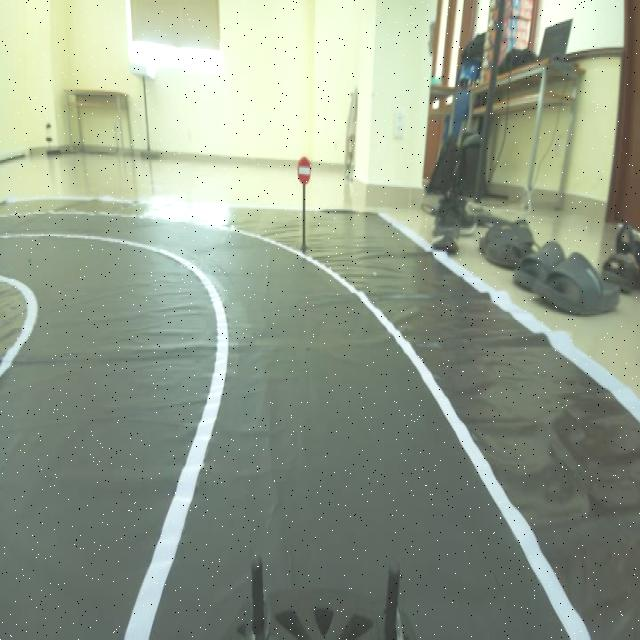no_entry: (297, 153, 311, 189)
